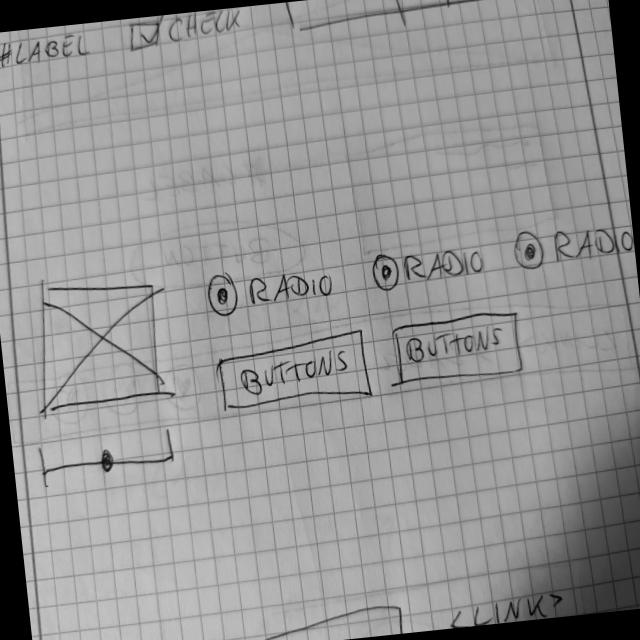button: (212, 326, 375, 422), (386, 307, 526, 389)
checkbox: (125, 6, 247, 54)
image: (24, 271, 169, 421)
label: (0, 28, 95, 70)
link: (444, 586, 568, 628)
radio: (202, 260, 338, 320), (508, 214, 636, 273), (369, 239, 487, 295)
slider: (37, 427, 180, 491)
